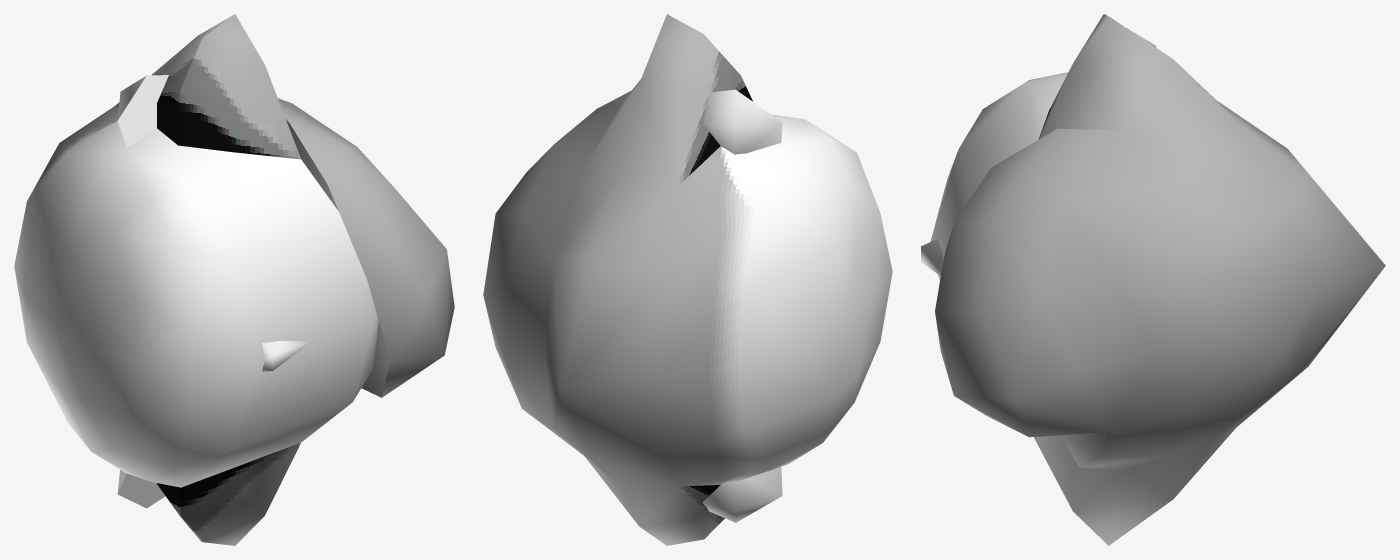
Rendered from girl00a.dae.
3 renders of one model, left to right at view 1: azimuth 30°, elevation 25°; view 2: azimuth 150°, elevation 25°; view 3: azimuth 270°, elevation 25°, orthographic.
Parts seen in each view (by area): view 1: girl00a; view 2: girl00a; view 3: girl00a.
Boxes of the visible parts, x1,y1,x2,y2 form: girl00a: (14,14,454,545); girl00a: (483,14,892,545); girl00a: (921,14,1385,545).
Size of the model in its own units: 22.79 by 32.8 by 26.14.
3 materials, 1 textured.
